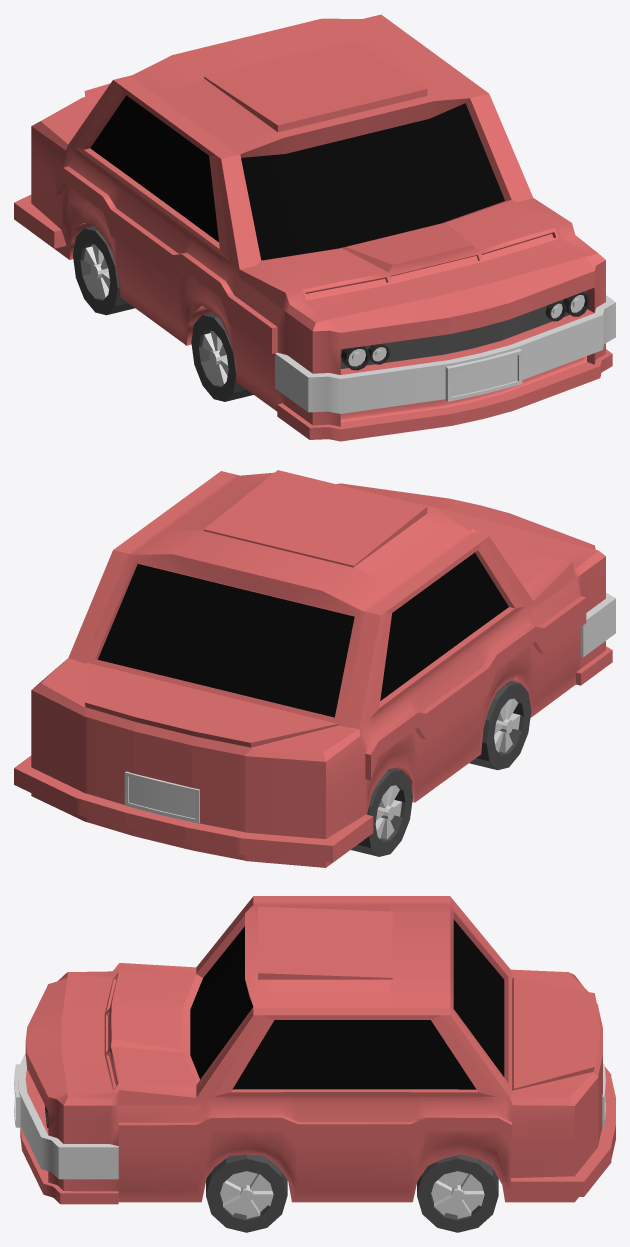
The model's file is red_car.fbx.
The picture shows the model from 3 angles, top to bottom: view 1: azimuth 30°, elevation 25°; view 2: azimuth 150°, elevation 25°; view 3: azimuth 270°, elevation 25°; orthographic projection. The views are drawn at different scales.
Visible parts, largest first — view 1: car, pPipe5 (×2), front_plate2, pCylinder12 (×2), pCylinder1, pCylinder13; view 2: car, pPipe5 (×2), back_plate1, pCylinder12 (×2); view 3: car, pPipe5 (×2), pCylinder12 (×2).
Part boxes in pixels (x1=…): car: x1=14, y1=14, x2=615, y2=441; pPipe5 (×2): x1=73, y1=226, x2=253, y2=401; front_plate2: x1=445, y1=348, x2=522, y2=401; pCylinder12 (×2): x1=84, y1=244, x2=228, y2=385; pCylinder1: x1=341, y1=292, x2=589, y2=370; pCylinder13: x1=368, y1=300, x2=566, y2=364; car: x1=14, y1=470, x2=615, y2=867; pPipe5 (×2): x1=351, y1=681, x2=531, y2=856; back_plate1: x1=124, y1=771, x2=199, y2=823; pCylinder12 (×2): x1=375, y1=698, x2=520, y2=839; car: x1=18, y1=896, x2=615, y2=1204; pPipe5 (×2): x1=206, y1=1154, x2=498, y2=1232; pCylinder12 (×2): x1=220, y1=1171, x2=484, y2=1218.
Size of the model in its own units: 10.89 by 8.14 by 19.54.
